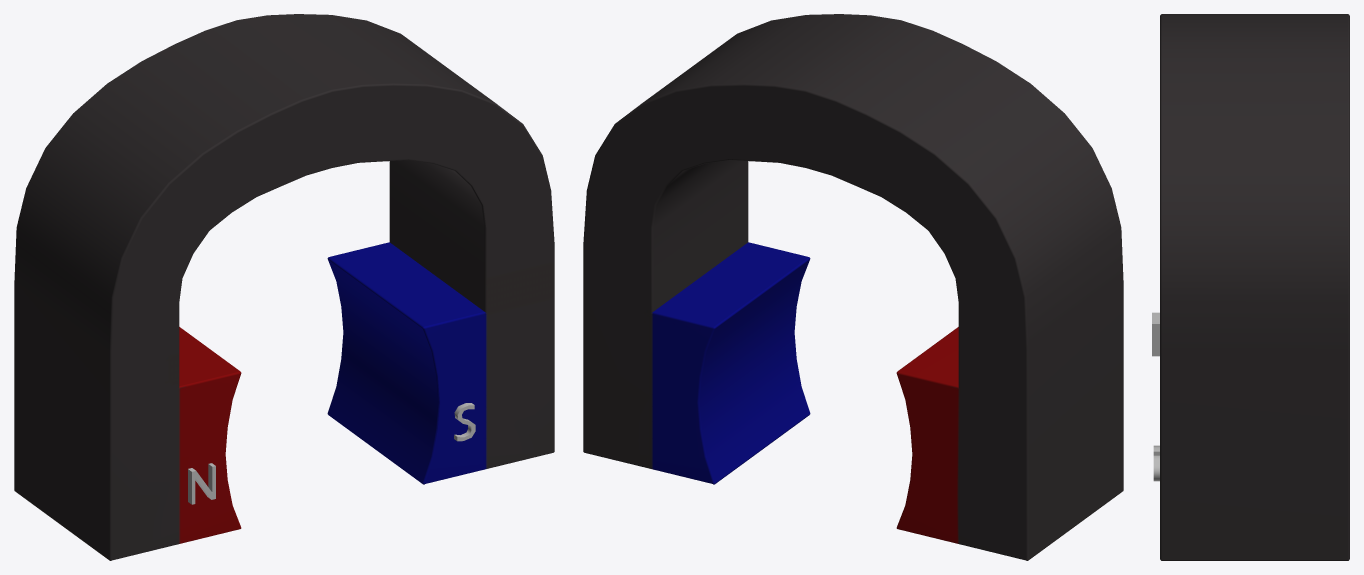
File: Magnet.gltf
The picture shows the model from 3 angles, left to right: view 1: azimuth 30°, elevation 25°; view 2: azimuth 150°, elevation 25°; view 3: azimuth 270°, elevation 25°; orthographic projection.
Parts seen in each view (by area): view 1: Magnet; view 2: Magnet; view 3: Magnet.
Part boxes in pixels (x1,y1,x2,y2): Magnet: (14, 14, 554, 560); Magnet: (583, 14, 1123, 560); Magnet: (1152, 14, 1349, 560).
Bounding box in the file's own units: 13.32 × 11.91 × 5.21.
2 materials, 1 textured.
